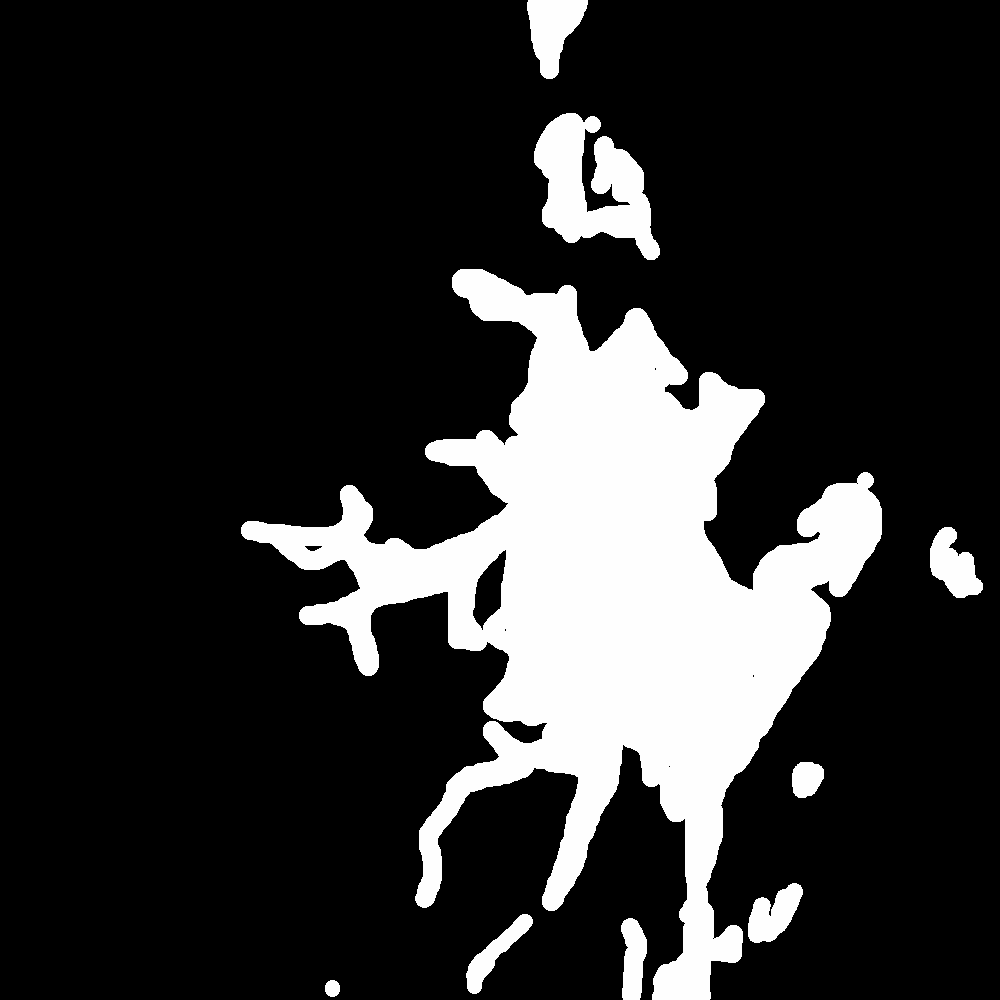illegal: (256, 290, 890, 904), (538, 110, 660, 257), (621, 907, 709, 1000), (463, 910, 541, 996), (528, 1, 588, 85), (316, 979, 346, 997)
